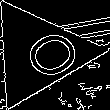O_SW: (2, 21, 76, 85)
